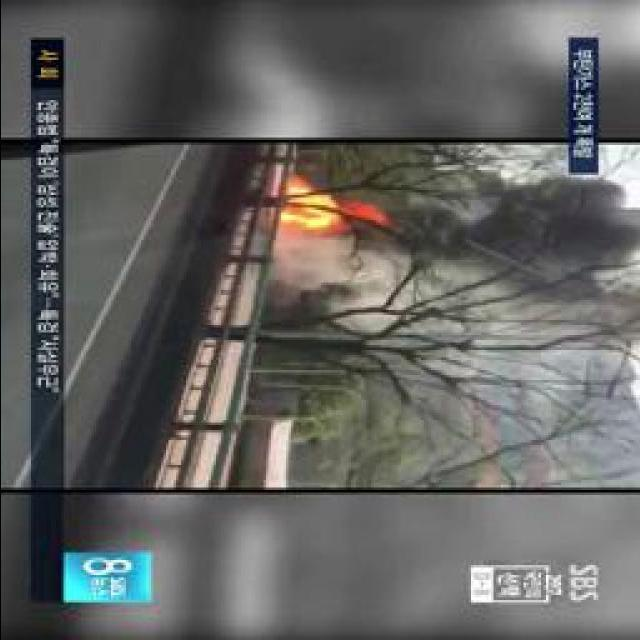Fire: (276, 176, 371, 237)
